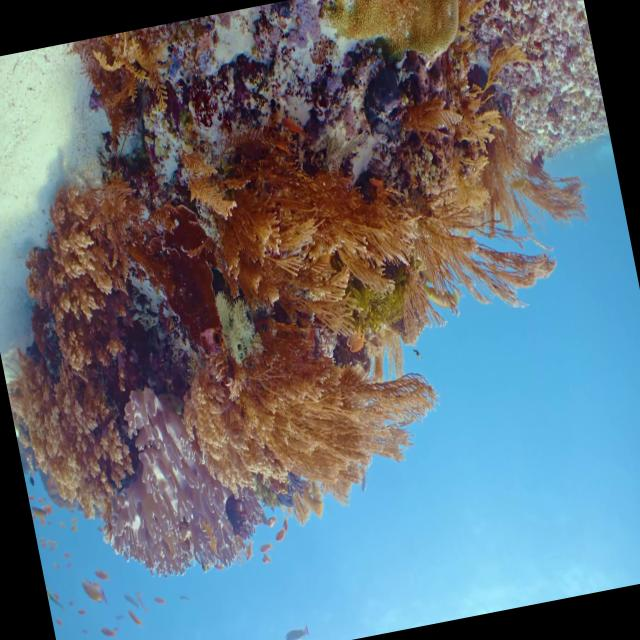fish: (72, 574, 110, 620), (277, 614, 319, 640)
